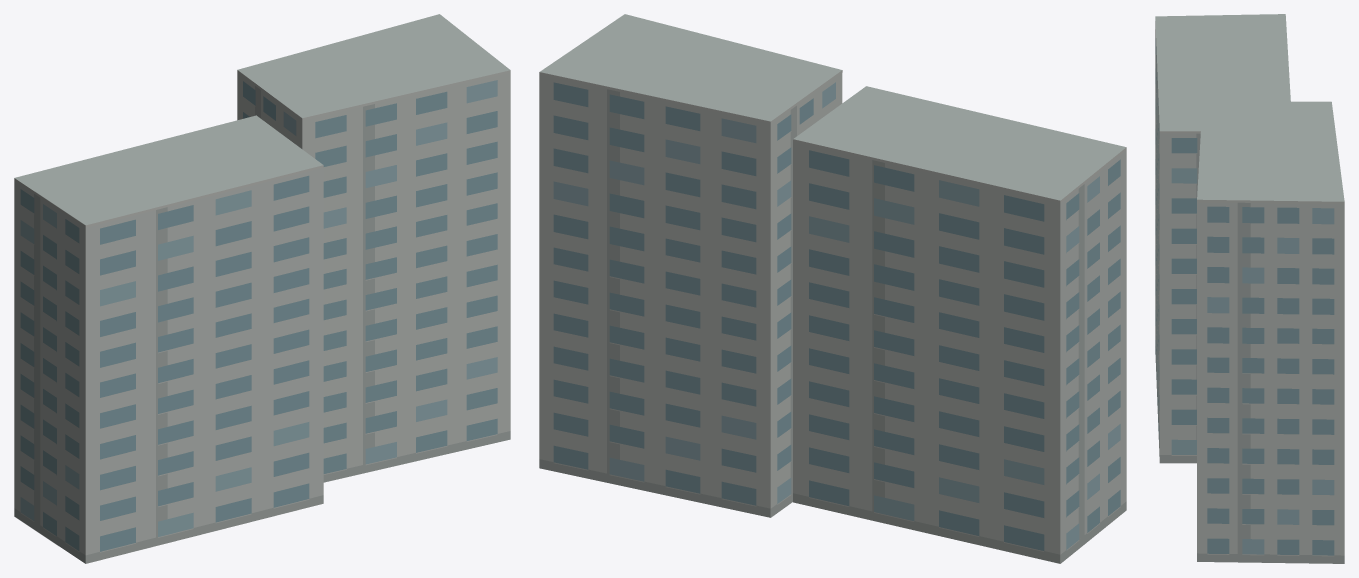
Rendered from residential-943ad677-02b9-45e5-9d24-fe0f1527d59c.glb.
The picture shows the model from 3 angles, left to right: view 1: azimuth 30°, elevation 25°; view 2: azimuth 150°, elevation 25°; view 3: azimuth 270°, elevation 25°; orthographic projection. The views are drawn at different scales.
Visible parts, largest first — view 1: residential-943ad677-02b9-45e5-9d24-fe0f1527d59c.tmp; view 2: residential-943ad677-02b9-45e5-9d24-fe0f1527d59c.tmp; view 3: residential-943ad677-02b9-45e5-9d24-fe0f1527d59c.tmp.
Boxes of the visible parts, x1,y1,x2,y2 form: residential-943ad677-02b9-45e5-9d24-fe0f1527d59c.tmp: (14,14,510,563); residential-943ad677-02b9-45e5-9d24-fe0f1527d59c.tmp: (539,14,1126,563); residential-943ad677-02b9-45e5-9d24-fe0f1527d59c.tmp: (1155,14,1344,563).
Bounding box in the file's own units: 47.25 × 36.6 × 17.36.
